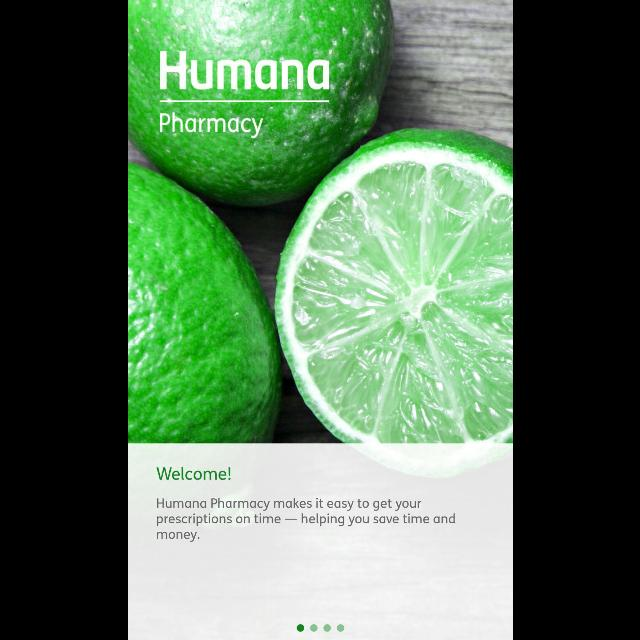image: (128, 1, 512, 443)
pageindicator: (296, 624, 344, 632)
text: (156, 498, 454, 542), (160, 51, 328, 90), (160, 112, 262, 138), (156, 468, 230, 480)
